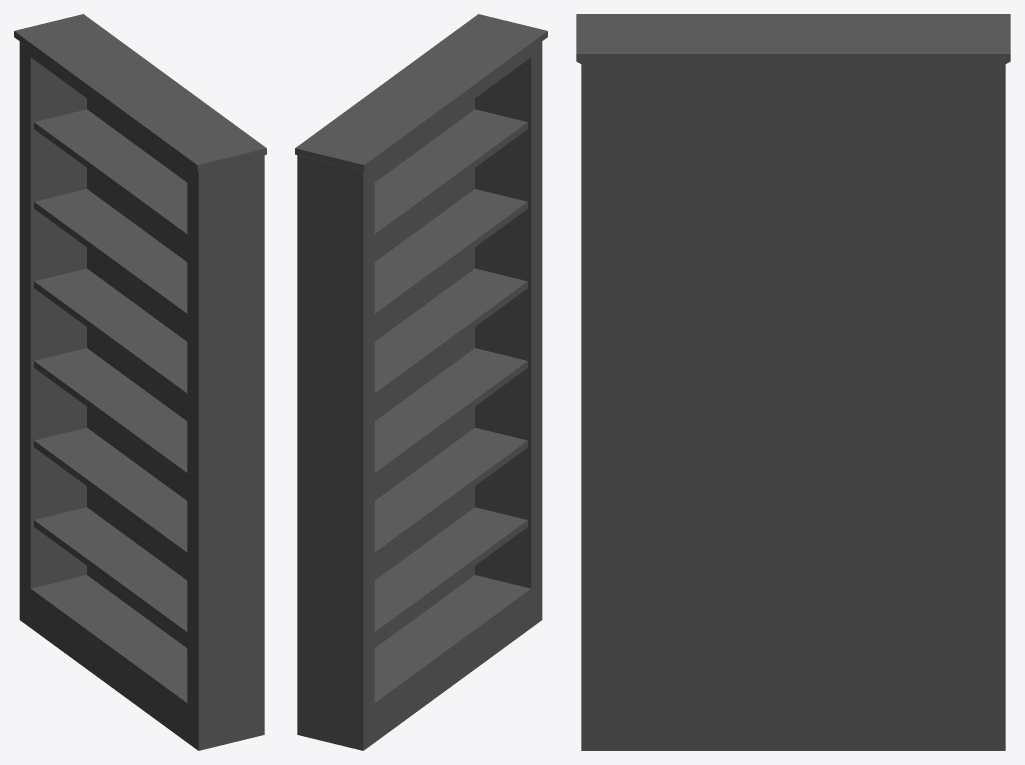
Rendered from 8shell.fbx.
3 renders of one model, left to right at view 1: azimuth 30°, elevation 25°; view 2: azimuth 150°, elevation 25°; view 3: azimuth 270°, elevation 25°, orthographic. The views are drawn at different scales.
Visible parts, largest first — view 1: Shelf_01.001; view 2: Shelf_01.001; view 3: Shelf_01.001.
Boxes of the visible parts, left/top/right/bottom form: Shelf_01.001: left=14, top=14, right=266, bottom=750; Shelf_01.001: left=295, top=14, right=547, bottom=750; Shelf_01.001: left=576, top=14, right=1010, bottom=750.
Bounding box in the file's own units: 62.45 × 506 × 286.
